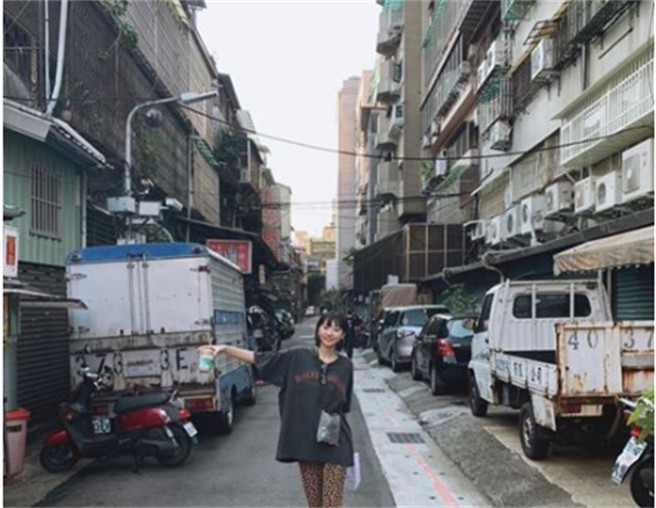people: (285, 313, 353, 507)
